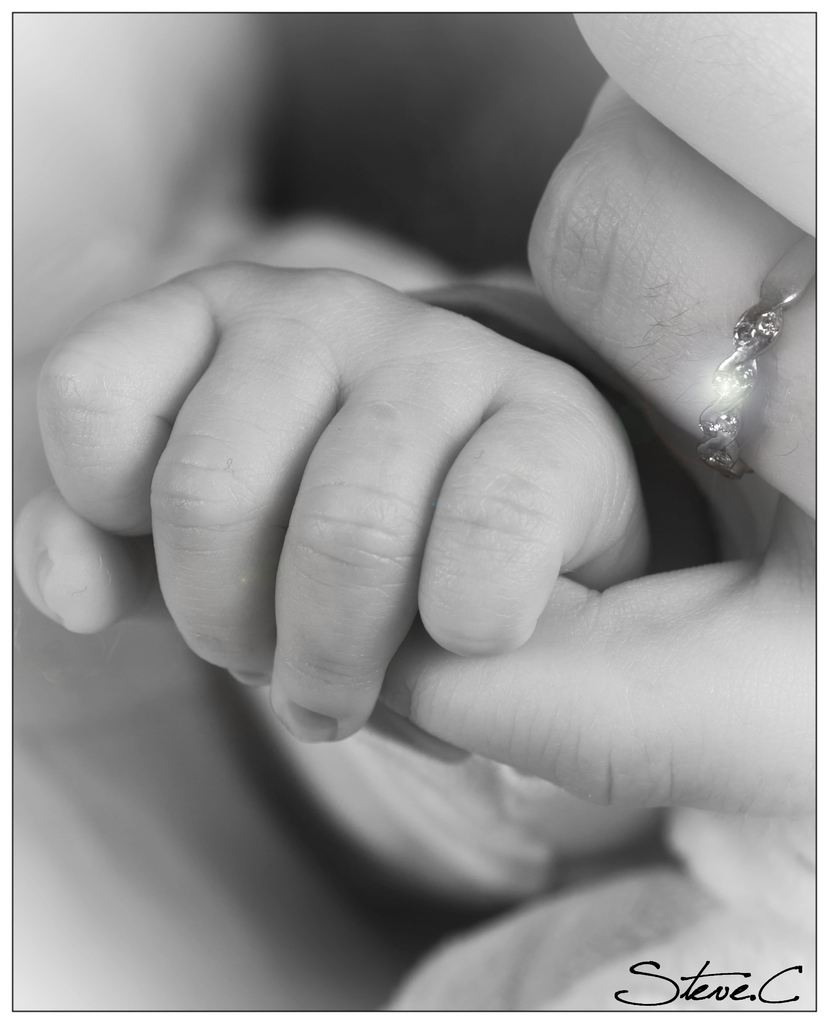Person: (13, 11, 654, 1011), (376, 13, 815, 1010)
